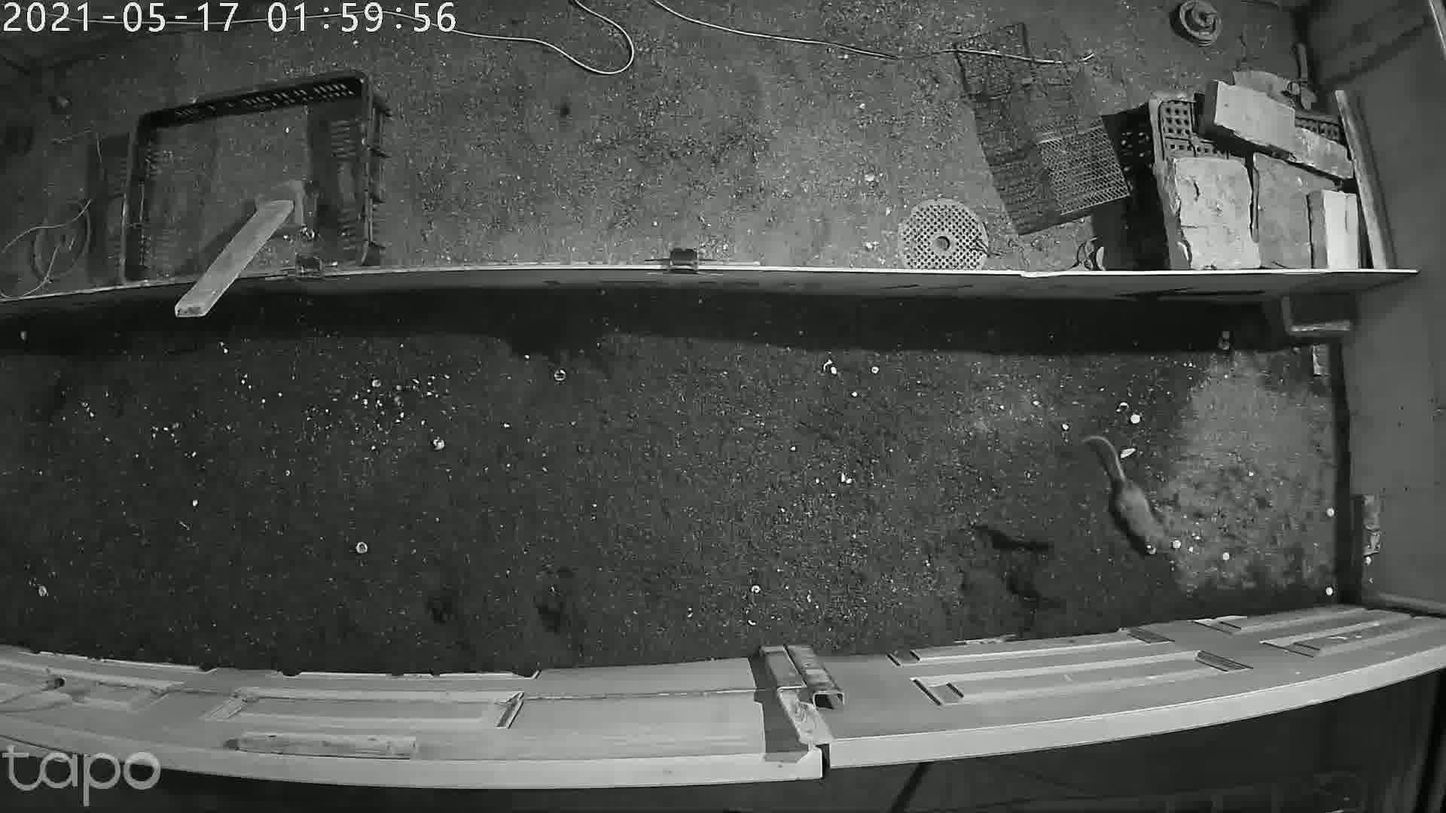rat: (1069, 420, 1177, 563)
